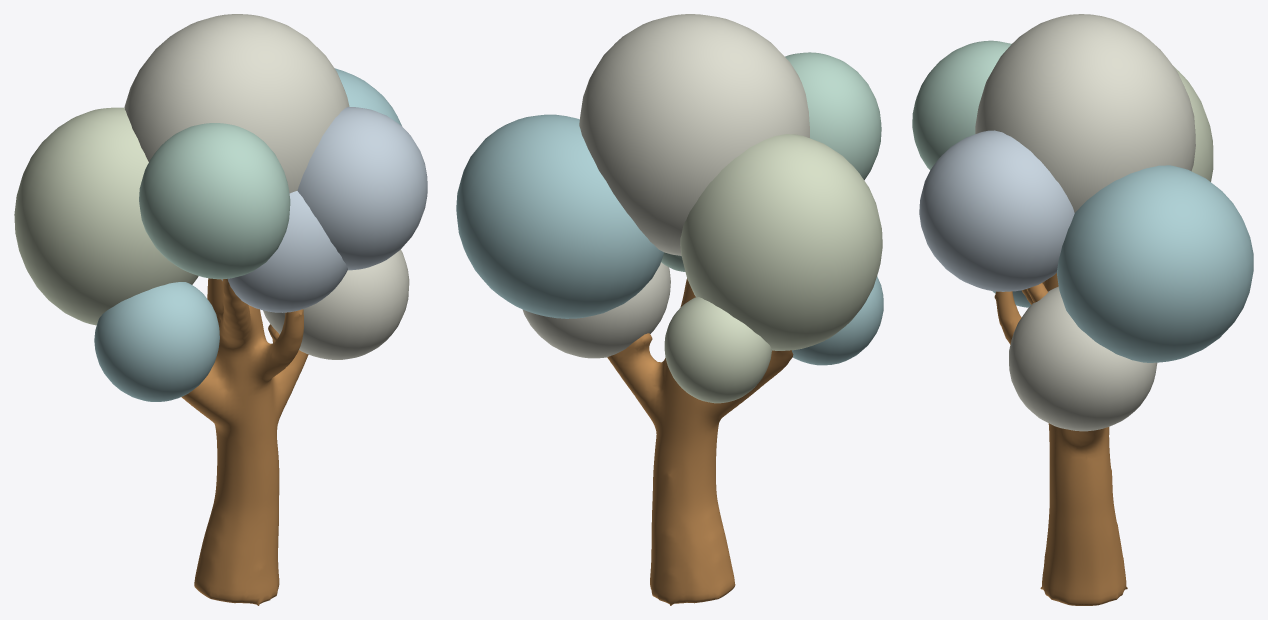
Rendered from oak-study.glb.
The picture shows the model from 3 angles, left to right: view 1: azimuth 30°, elevation 25°; view 2: azimuth 150°, elevation 25°; view 3: azimuth 270°, elevation 25°; orthographic projection.
Parts seen in each view (by area): view 1: Tree study · softly varied main lobes, Tree study · curved continuous forks; view 2: Tree study · softly varied main lobes, Tree study · curved continuous forks; view 3: Tree study · softly varied main lobes, Tree study · curved continuous forks.
Part boxes in pixels (left/top/right/bottom): Tree study · softly varied main lobes: left=14, top=14, right=427, bottom=401; Tree study · curved continuous forks: left=181, top=278, right=308, bottom=605; Tree study · softly varied main lobes: left=456, top=14, right=883, bottom=403; Tree study · curved continuous forks: left=607, top=278, right=793, bottom=605; Tree study · softly varied main lobes: left=912, top=14, right=1253, bottom=431; Tree study · curved continuous forks: left=994, top=273, right=1127, bottom=605.
Bounding box in the file's own units: 1.4 × 1.99 × 1.09.
